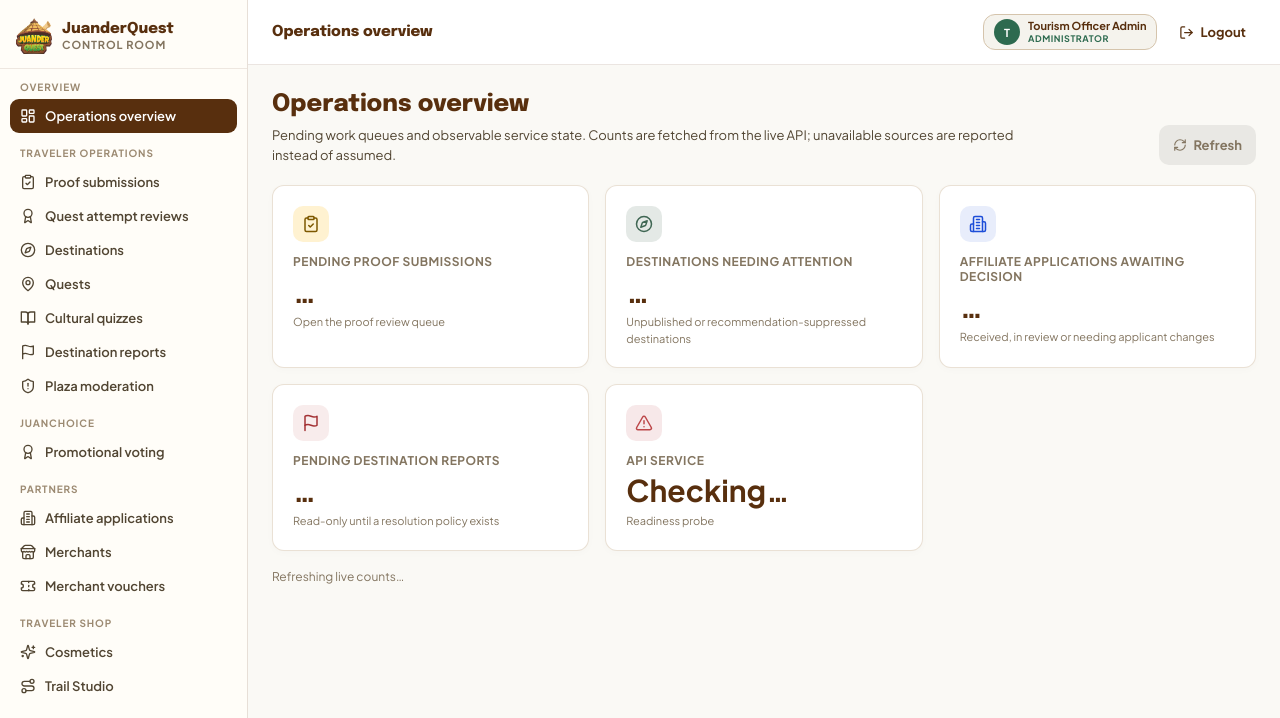
admin authentication and routed shell › navigates between sections without a full reload
Expected: the heading "Operations overview" is shown, [272,92,529,117]
Step 1. Click the link "Destinations" → (72, 250), box [20,242,124,258]
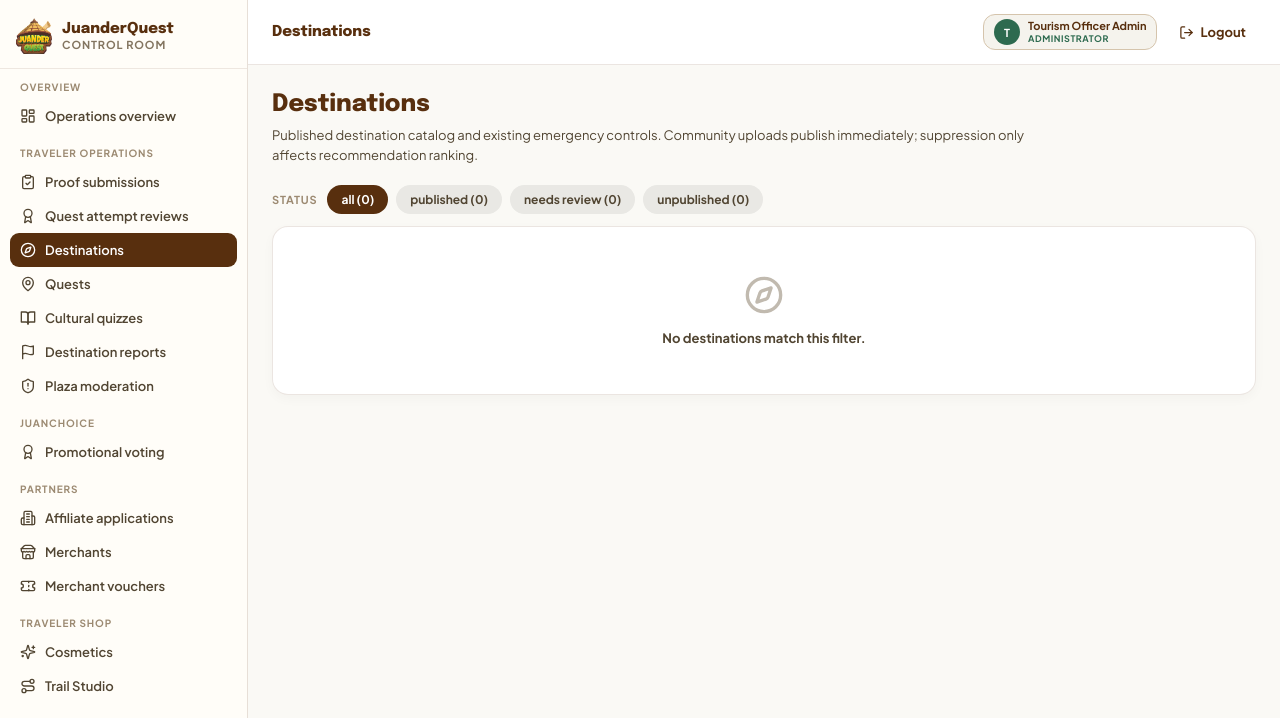
Expected: the heading "Destinations" is shown, [272,92,430,117]
